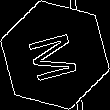M_E: (24, 26, 86, 84)
